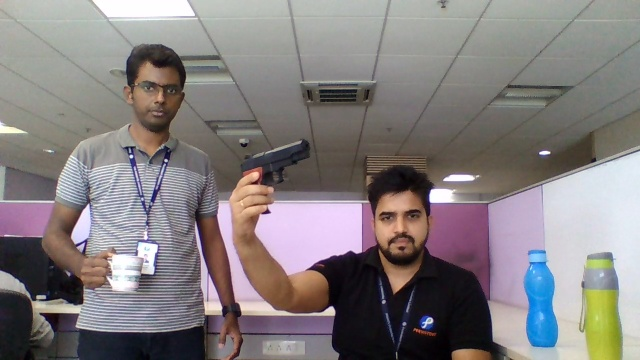gun: (240, 139, 310, 184)
